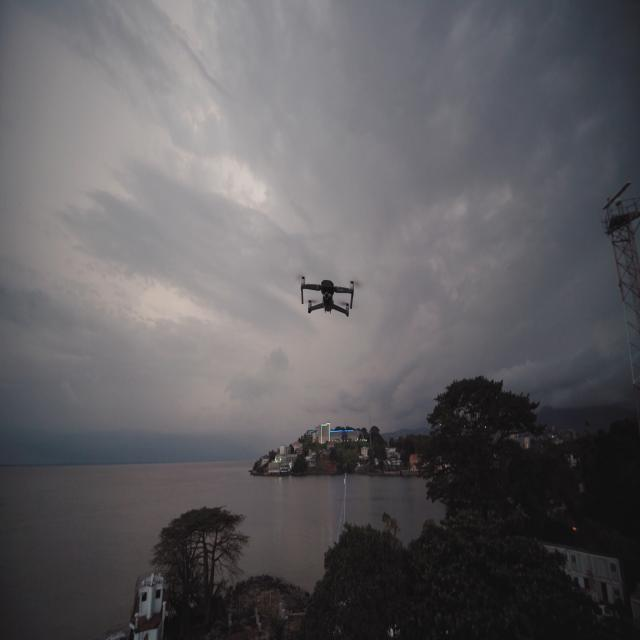drone: (300, 275, 354, 317)
